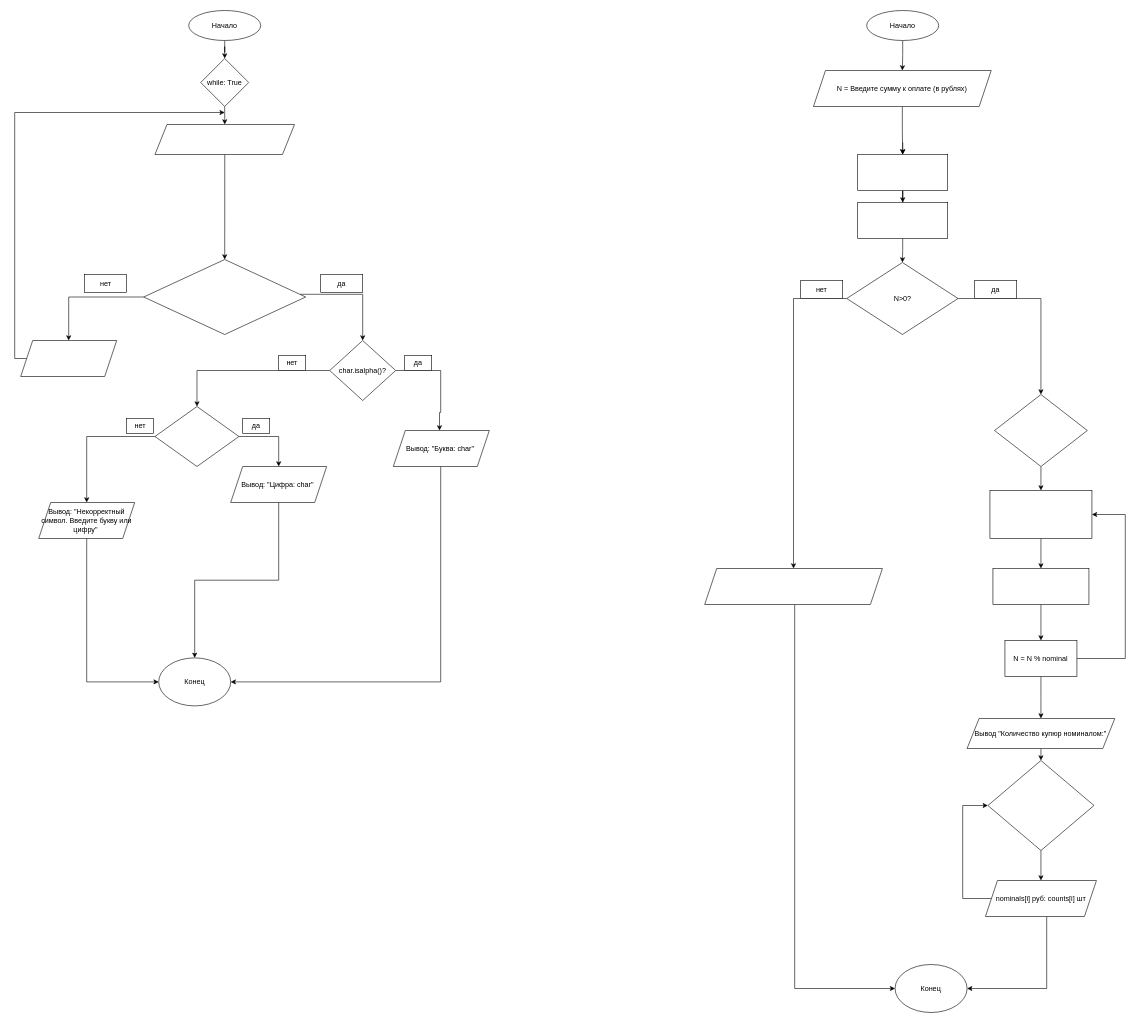
Some shapes in this 1141 by 1023 pixel diagram are drawn without their labels. Each missing label, with the centre of its shape:
"char = Введите символ:" goes at (x=224, y=139).
"char.isdigit()?" goes at (x=196, y=436).
"count = []" goes at (x=902, y=220).
"count = N // nominal" goes at (x=1040, y=514).
"counts.append(count)" goes at (x=1040, y=586).
"for i in range(len(nominals))" goes at (x=1040, y=805).
"for nominal in nominals" goes at (x=1040, y=430).
"len(char) != 1?" goes at (x=224, y=296).
"nominals = [10000, 1000, 500, 100, 50, 10, 5, 1]" goes at (x=902, y=172).
"Введите положительную сумму" goes at (x=793, y=586).
"Пожалуйста, введите ровно один символ" goes at (x=68, y=358).
